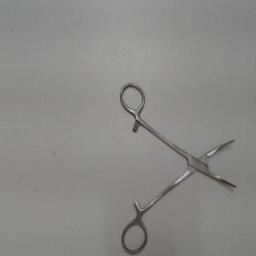Crile Artery Forceps: (117, 78, 241, 254)
